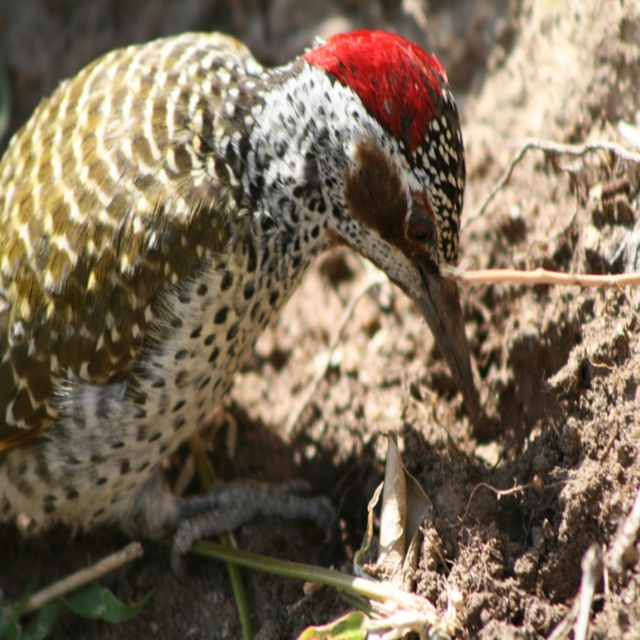Chicken: (11, 30, 518, 627)
